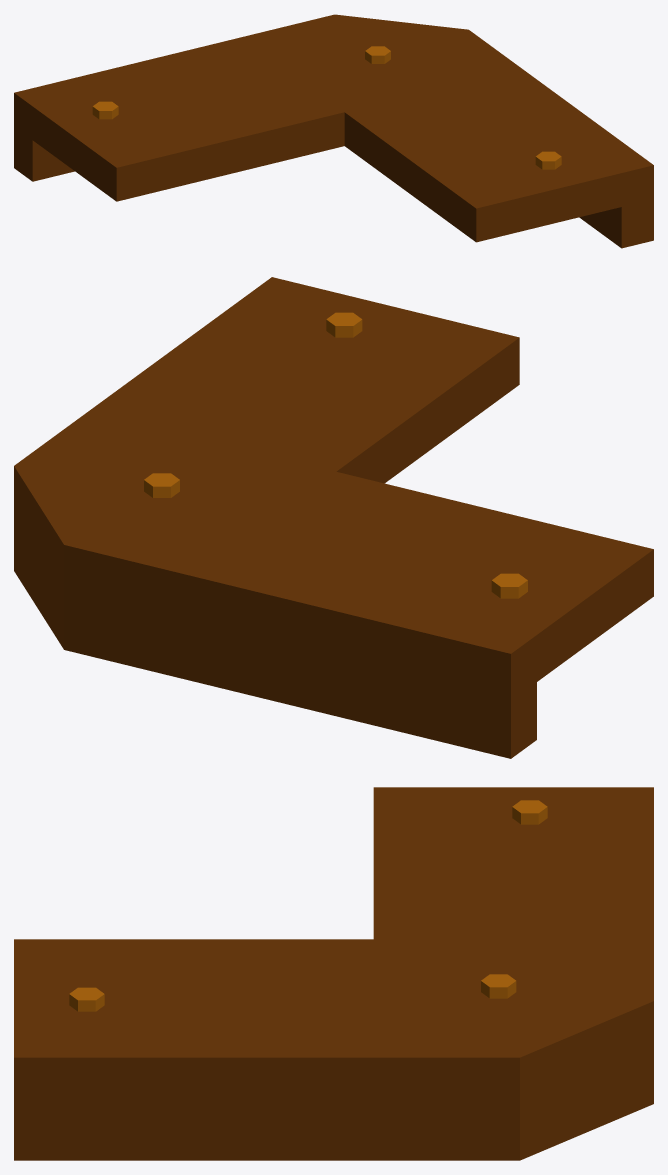
Rendered from NeonCityV5_Run_Hazard_Corner_XFront.fbx.
3 renders of one model, top to bottom at view 1: azimuth 30°, elevation 25°; view 2: azimuth 150°, elevation 25°; view 3: azimuth 270°, elevation 25°, orthographic. The views are drawn at different scales.
Parts seen in each view (by area): view 1: NeonCityV5_Run_Hazard_Corner_XFront; view 2: NeonCityV5_Run_Hazard_Corner_XFront; view 3: NeonCityV5_Run_Hazard_Corner_XFront.
Part boxes in pixels (x1=…): NeonCityV5_Run_Hazard_Corner_XFront: x1=14, y1=14, x2=653, y2=248; NeonCityV5_Run_Hazard_Corner_XFront: x1=14, y1=277, x2=653, y2=758; NeonCityV5_Run_Hazard_Corner_XFront: x1=14, y1=787, x2=653, y2=1160.
Size of the model in its own units: 0.614 by 0.121 by 0.614.
